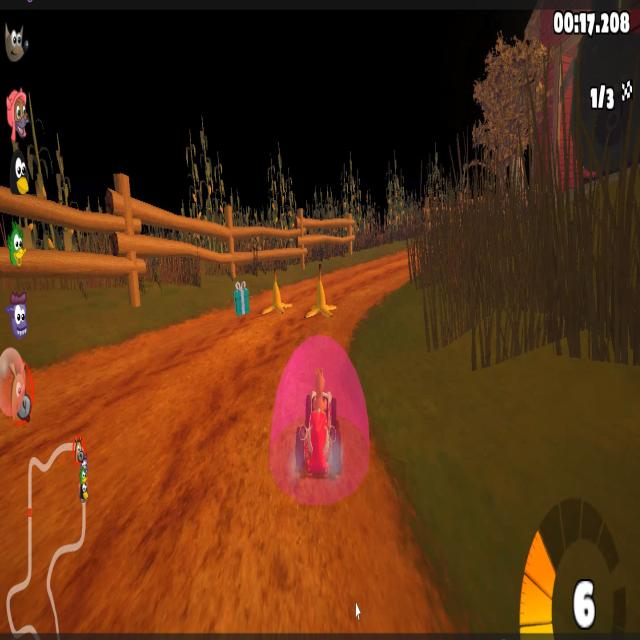track: (0, 387, 267, 640), (271, 503, 447, 640), (113, 340, 274, 390), (340, 251, 411, 293), (69, 352, 113, 392), (235, 322, 302, 338), (186, 305, 229, 328), (341, 300, 360, 334), (292, 281, 302, 318)
